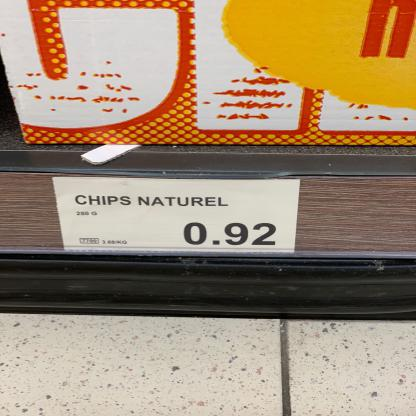prtg: (53, 178, 301, 254)
